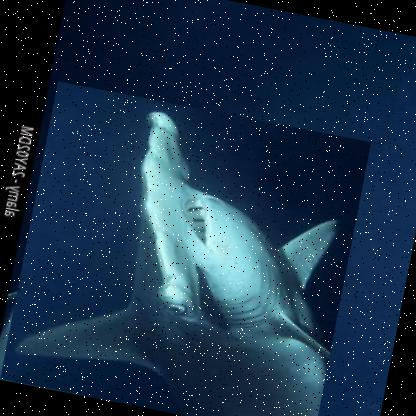hammerhead_Shark: (0, 80, 371, 415)
